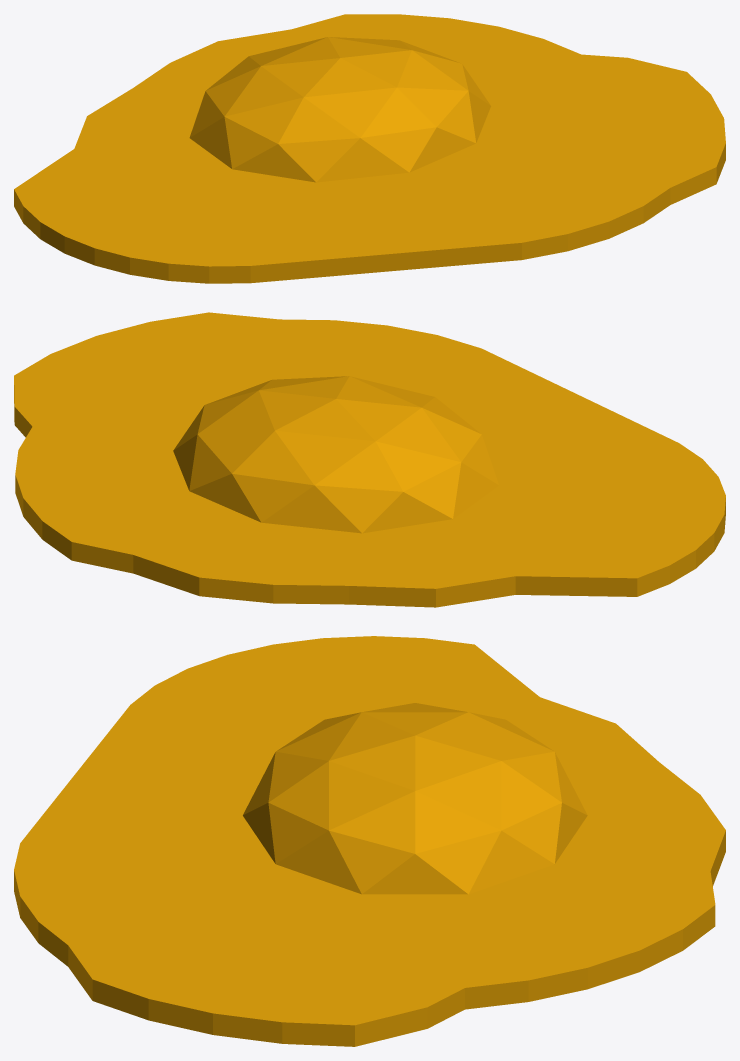
File: Egg.fbx
The picture shows the model from 3 angles, top to bottom: view 1: azimuth 30°, elevation 25°; view 2: azimuth 150°, elevation 25°; view 3: azimuth 270°, elevation 25°; orthographic projection. The views are drawn at different scales.
Parts seen in each view (by area): view 1: Icosphere; view 2: Icosphere; view 3: Icosphere.
Part boxes in pixels (bbox=[...]): Icosphere: bbox=[14, 14, 725, 283]; Icosphere: bbox=[14, 312, 725, 607]; Icosphere: bbox=[14, 636, 725, 1046].
Bounding box in the file's own units: 116 × 15.94 × 89.47.
